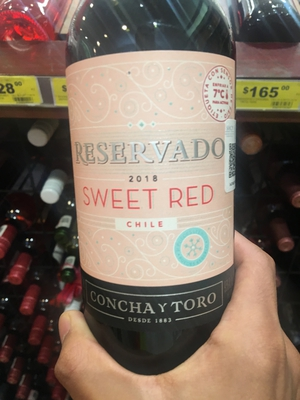reservado sweet red: (47, 10, 271, 371)
